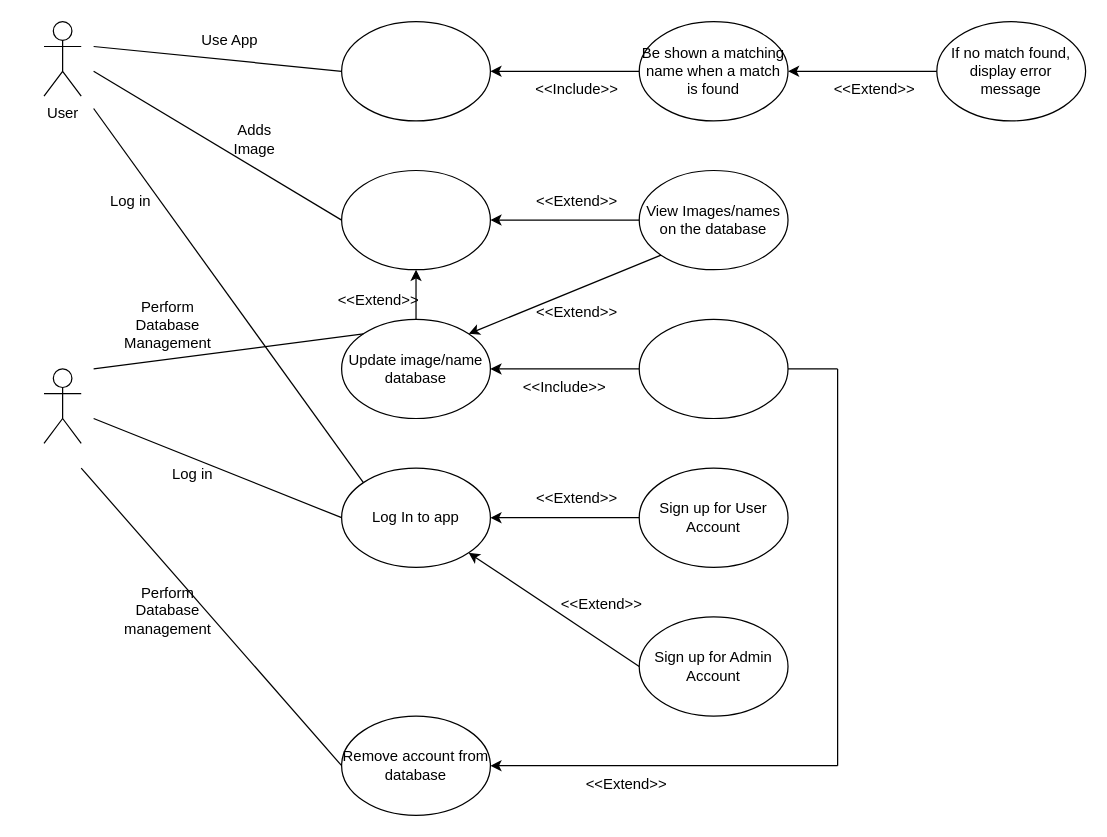
The diagram is 1107 pixels wide and 837 high, and some of its shapes have lost their labels. Here are the shapes that lost their labels. From the top down, the box of each, then its label:
(340, 20, 490, 121): Take a photo using the camera
(340, 169, 490, 270): Store pictures and names in a database
(638, 318, 788, 418): Remove images/names from the database
(43, 368, 81, 443): Administator
